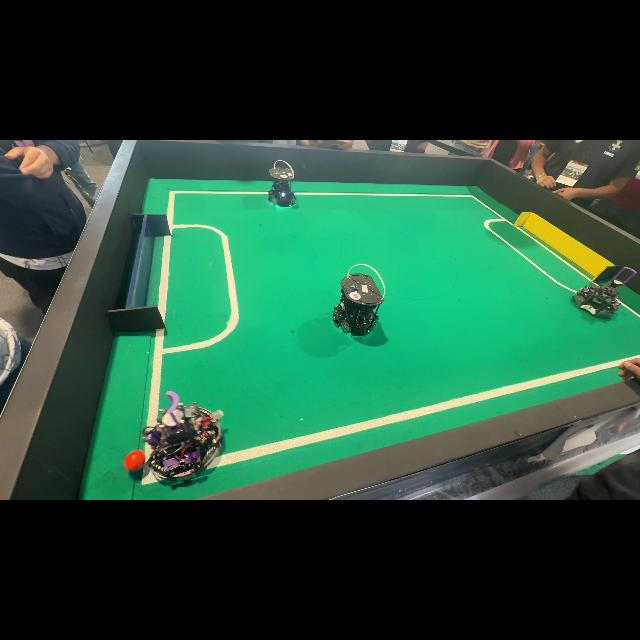ball: (124, 449, 145, 473)
goal: (107, 214, 171, 331), (514, 212, 613, 280)
robot: (144, 391, 223, 480), (332, 264, 385, 336), (573, 267, 636, 318), (269, 160, 296, 207)
